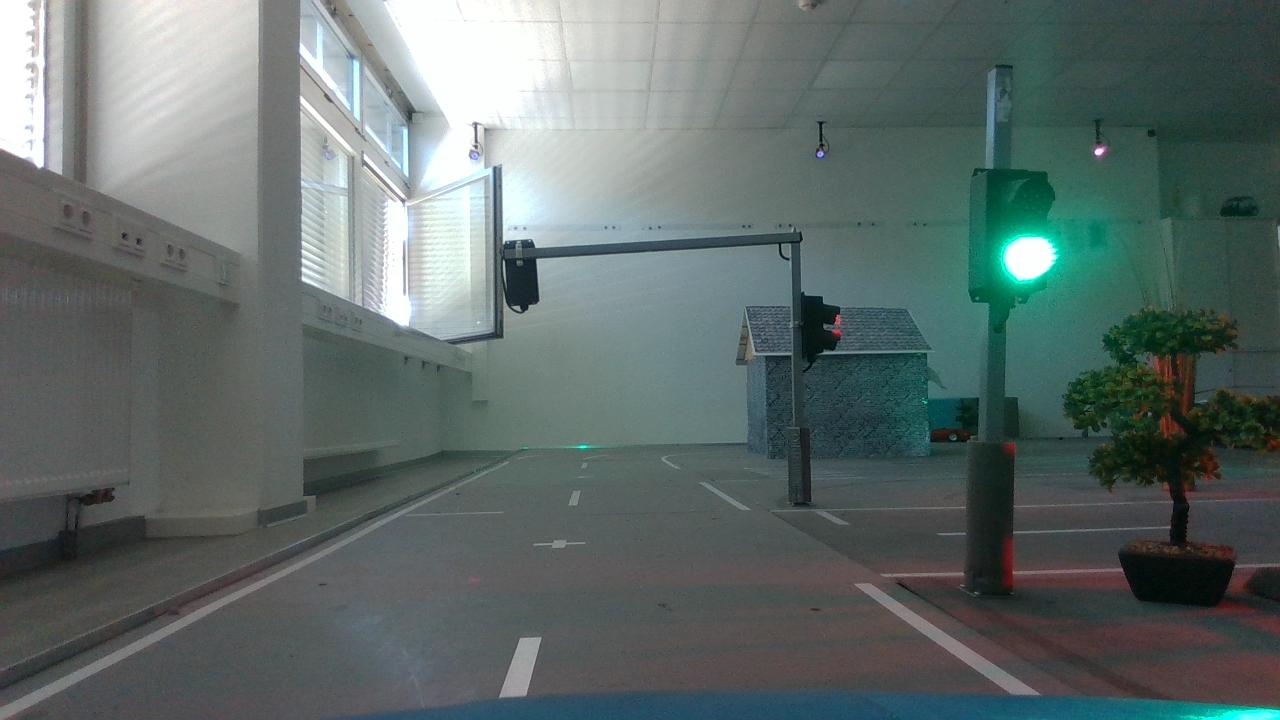traffic_light_green: (947, 157, 1069, 325)
